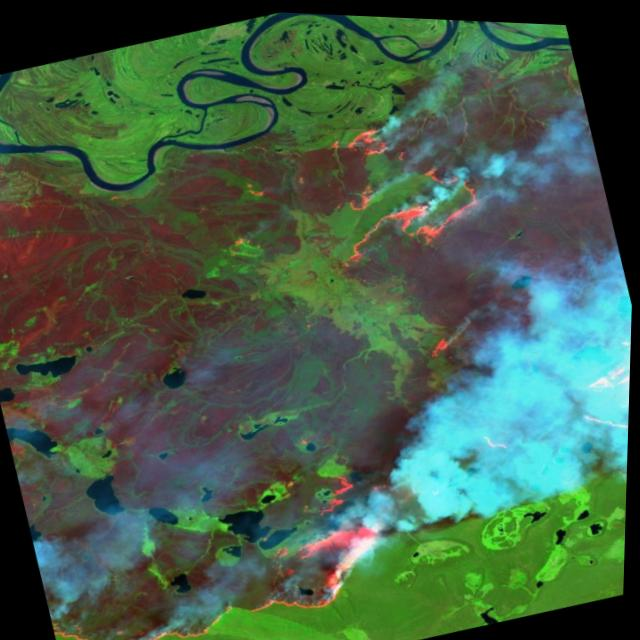fire: (33, 452, 406, 640), (304, 84, 507, 287), (553, 318, 633, 445), (415, 315, 481, 383)
